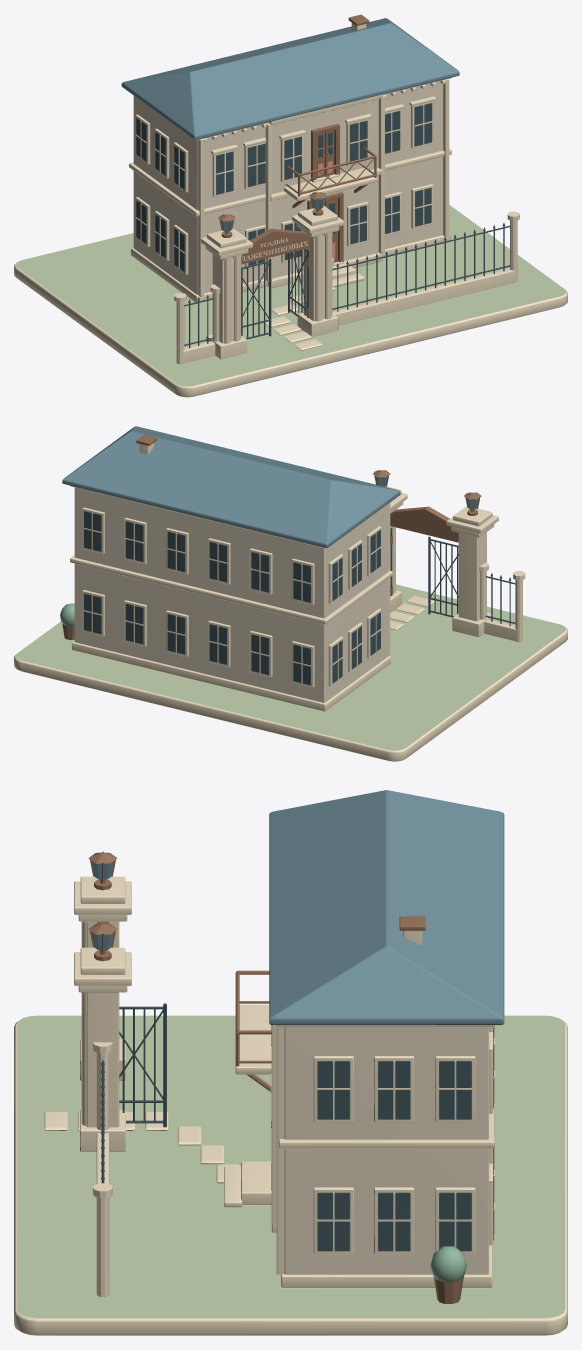
Rendered from lazhechnikov-estate.glb.
3 views of the same model, one above another, from view 1: azimuth 30°, elevation 25°; view 2: azimuth 150°, elevation 25°; view 3: azimuth 270°, elevation 25° (orthographic). The views are drawn at different scales.
Visible parts, largest first — view 1: lazhechnikov-estate · soft low-poly; view 2: lazhechnikov-estate · soft low-poly; view 3: lazhechnikov-estate · soft low-poly.
Part boxes in pixels (left/top/right/bottom): lazhechnikov-estate · soft low-poly: left=14, top=14, right=567, bottom=397; lazhechnikov-estate · soft low-poly: left=14, top=426, right=567, bottom=761; lazhechnikov-estate · soft low-poly: left=14, top=790, right=567, bottom=1335.
Size of the model in its own units: 8.6 by 4.55 by 6.6.
